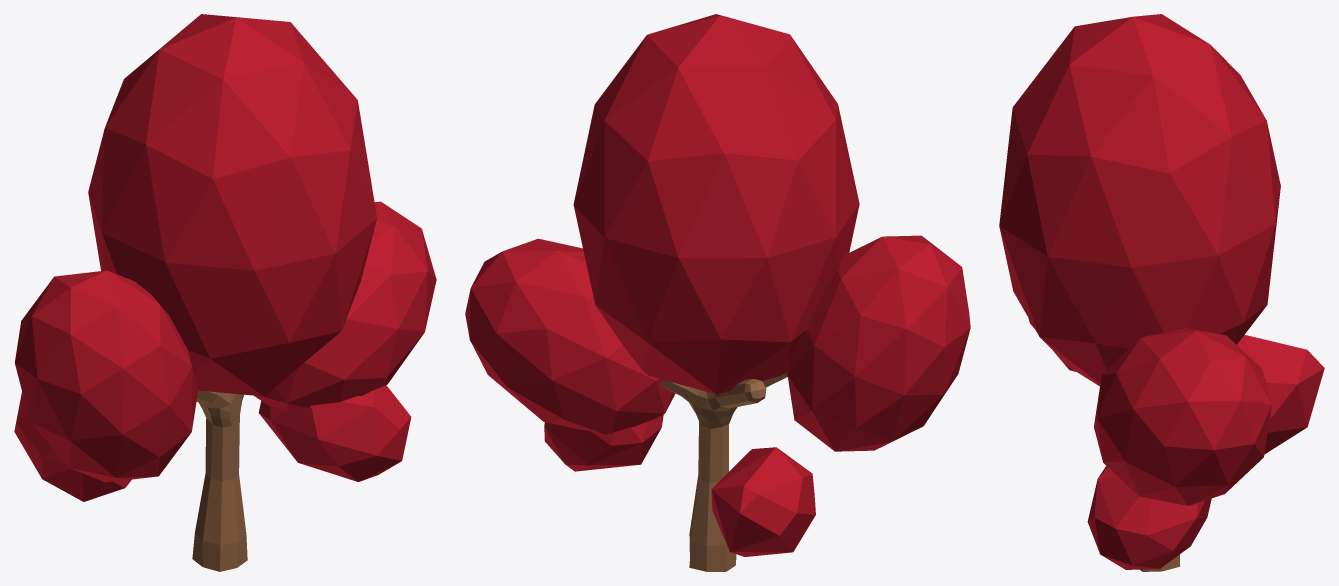
File: tree-dead-complete-10-002.glb
3 views of the same model, side by side, from view 1: azimuth 30°, elevation 25°; view 2: azimuth 150°, elevation 25°; view 3: azimuth 270°, elevation 25° (orthographic). The views are drawn at different scales.
Visible parts, largest first — view 1: TREE 10.007_497, TREE 10.006_498; view 2: TREE 10.007_497, TREE 10.006_498; view 3: TREE 10.007_497.
Boxes of the visible parts, left/top/right/bottom form: TREE 10.007_497: left=14, top=14, right=436, bottom=501; TREE 10.006_498: left=192, top=390, right=247, bottom=571; TREE 10.007_497: left=465, top=14, right=970, bottom=556; TREE 10.006_498: left=661, top=371, right=787, bottom=571; TREE 10.007_497: left=999, top=14, right=1324, bottom=569.
Size of the model in its own units: 1.19 by 1.4 by 0.7525.
